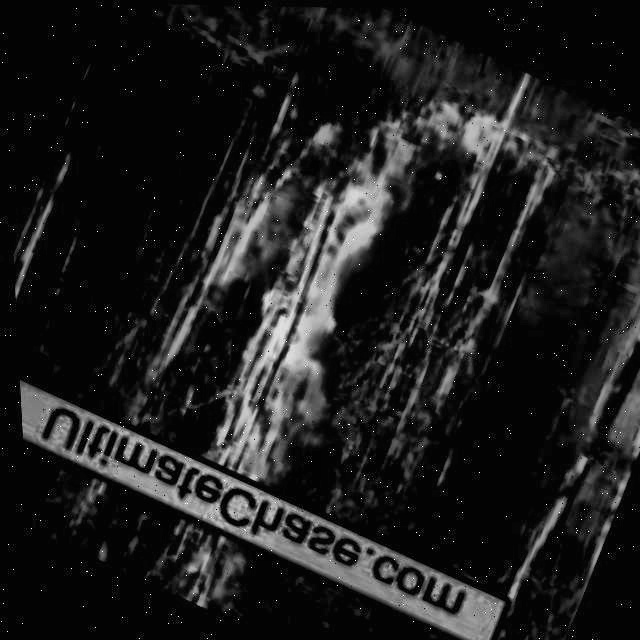Fire: (181, 141, 434, 499), (350, 49, 523, 207), (141, 509, 252, 618)
